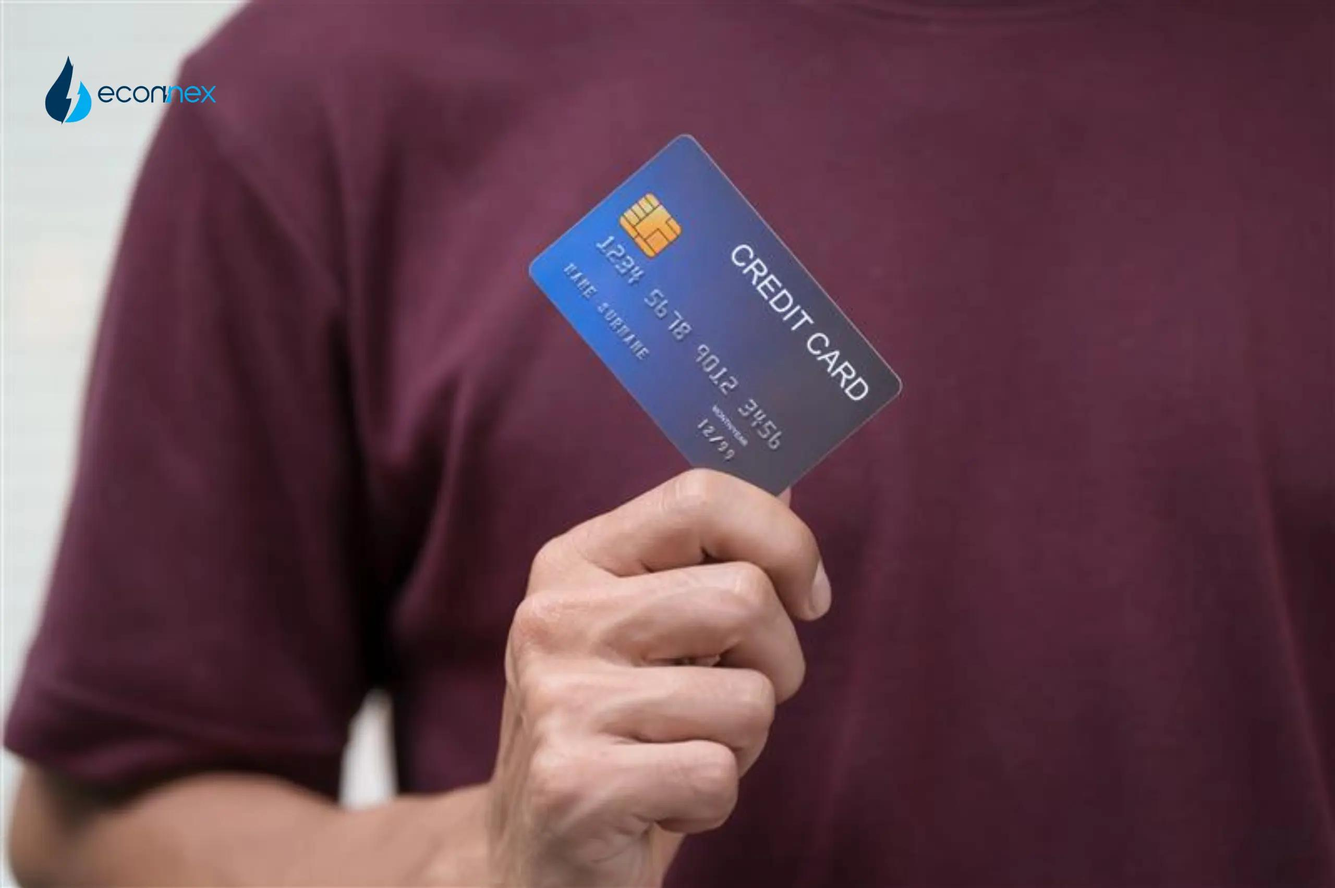Credit_card: (529, 135, 901, 494)
